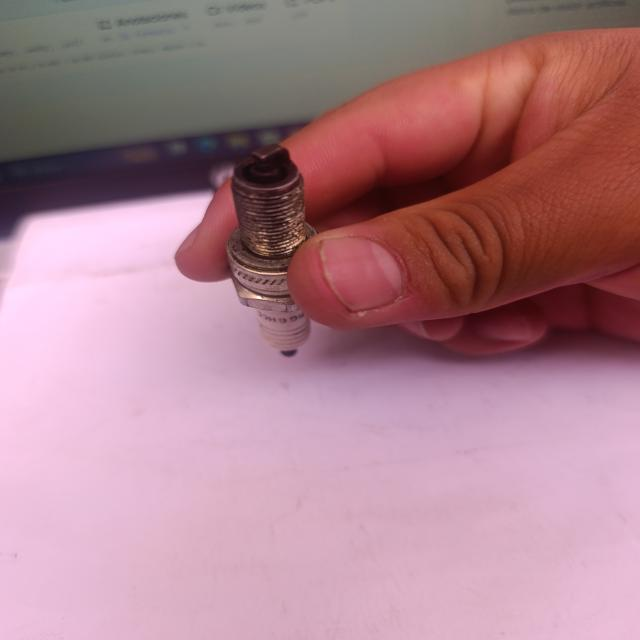bujia: (227, 144, 315, 356)
